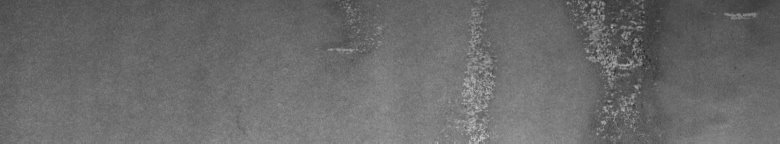hc: (567, 4, 758, 135)
